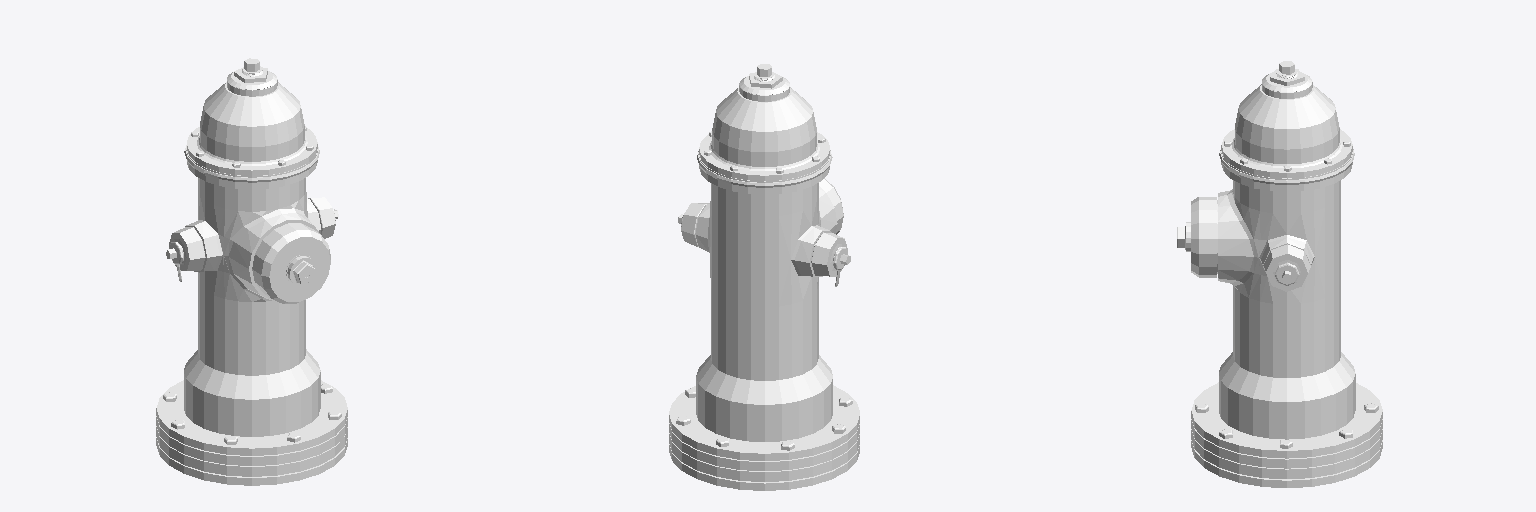
File: FireHydrant.obj
The picture shows the model from 3 angles: view 1: azimuth 30°, elevation 25°; view 2: azimuth 150°, elevation 25°; view 3: azimuth 270°, elevation 25°; orthographic projection.
Visible parts, largest first — view 1: fireHydrant_Mesh.002; view 2: fireHydrant_Mesh.002; view 3: fireHydrant_Mesh.002.
Boxes of the visible parts, box(x1,y1,x2,y2) form: fireHydrant_Mesh.002: box(156, 58, 347, 485); fireHydrant_Mesh.002: box(669, 64, 859, 490); fireHydrant_Mesh.002: box(1177, 61, 1382, 487).
Bounding box in the file's own units: 0.369 × 0.8051 × 0.391.